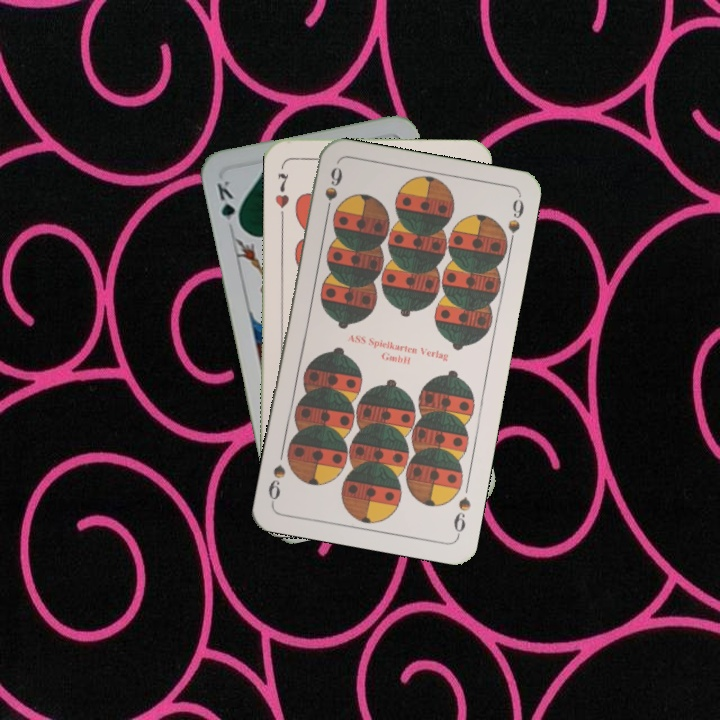GK: (212, 176, 244, 232)
H7: (271, 169, 292, 211)
S9: (321, 163, 345, 221), (449, 493, 473, 539)
